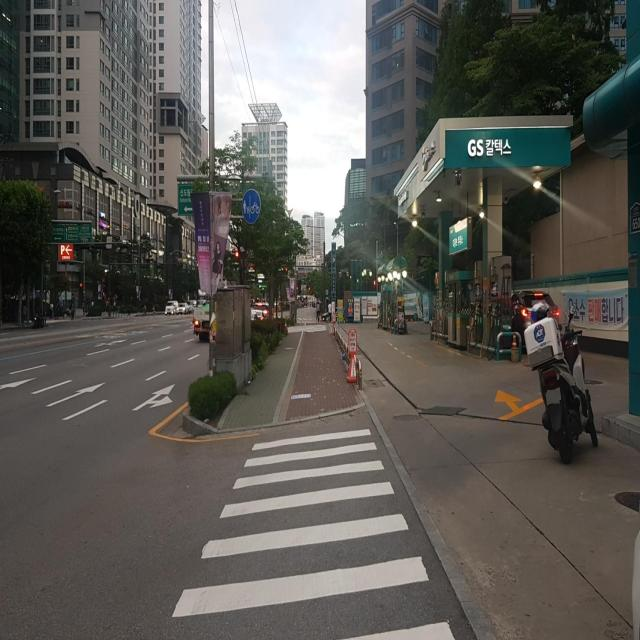횡단보도: (170, 426, 456, 637)
